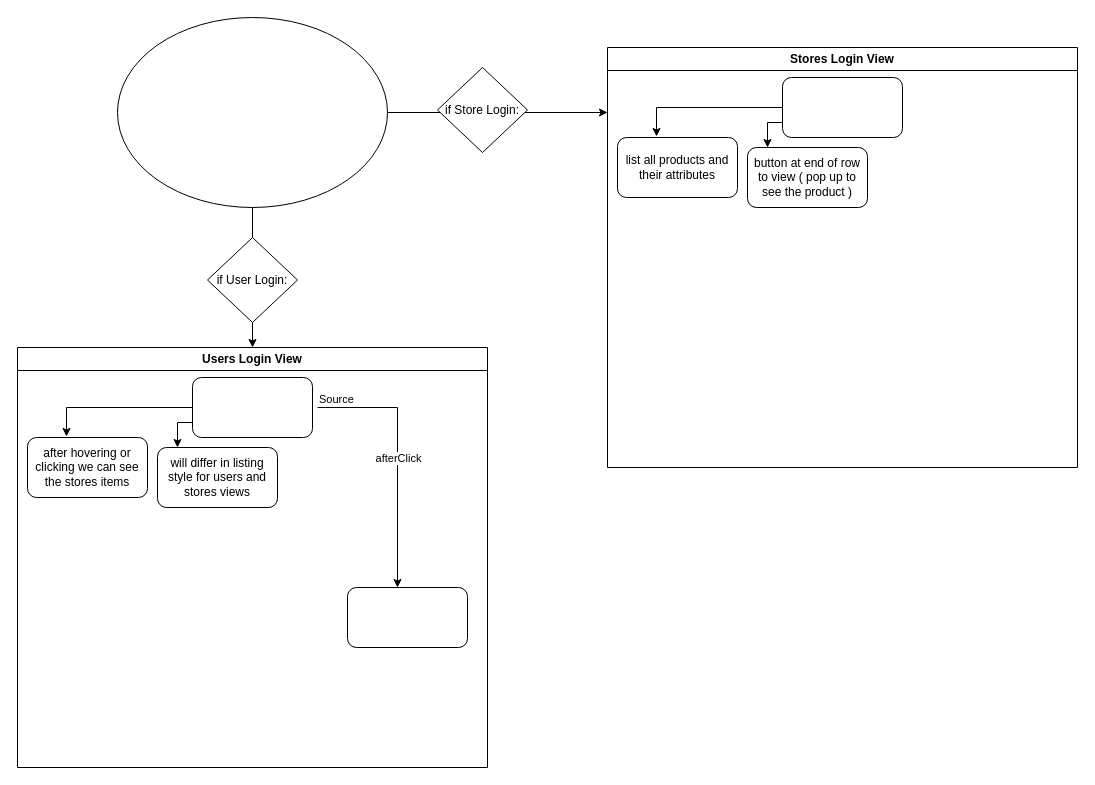
The diagram is 1095 pixels wide and 785 high, and some of its shapes have lost their labels. The centre of each missing label's shape, as x and y in pixels:
"List of all Stores (as table view or something else)" goes at (x=252, y=407).
"Table List View of Products" goes at (x=842, y=107).
"User Login/ Store Login" goes at (x=252, y=112).
"View of store and their products" goes at (x=407, y=617).
